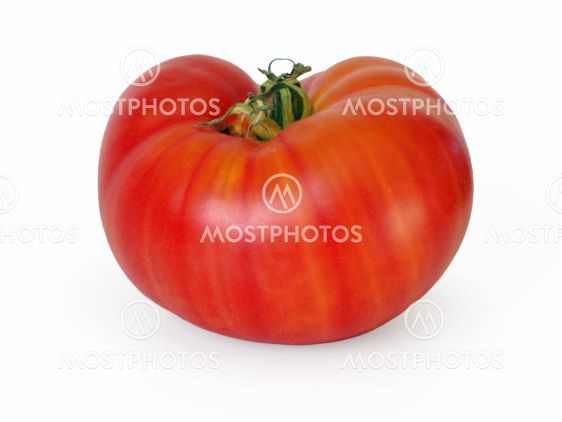tomato: (99, 54, 473, 343)
